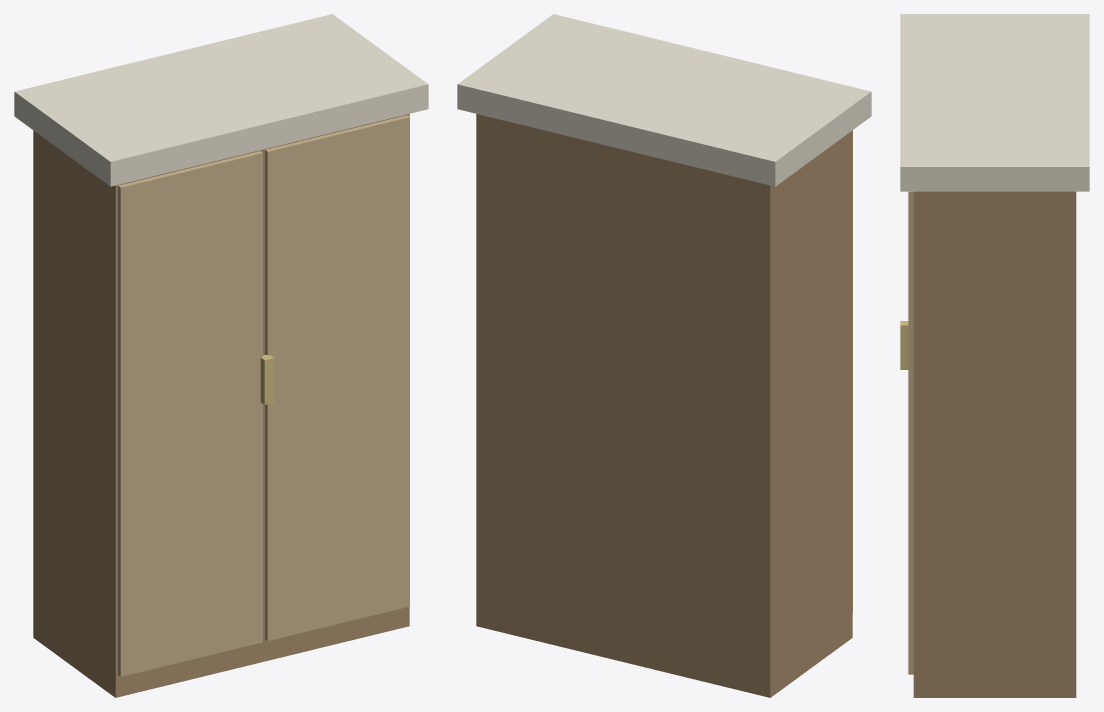
Rendered from mdl_furniture_wardrobe_001.glb.
3 views of the same model, side by side, from view 1: azimuth 30°, elevation 25°; view 2: azimuth 150°, elevation 25°; view 3: azimuth 270°, elevation 25° (orthographic).
Visible parts, largest first — view 1: m_madera_clara, m_madera, m_crema, m_oro_viejo; view 2: m_madera, m_crema; view 3: m_madera, m_crema, m_madera_clara, m_oro_viejo.
Part boxes in pixels (<box>): m_madera_clara: <box>118,115,409,676</box>; m_madera: <box>33,114,409,697</box>; m_crema: <box>14,14,428,186</box>; m_oro_viejo: <box>260,354,274,404</box>; m_madera: <box>476,114,852,697</box>; m_crema: <box>457,14,871,186</box>; m_madera: <box>913,191,1076,697</box>; m_crema: <box>900,14,1089,191</box>; m_madera_clara: <box>908,191,913,674</box>; m_oro_viejo: <box>900,321,908,369</box>.
Size of the model in its own units: 1.34 by 2.19 by 0.7.
